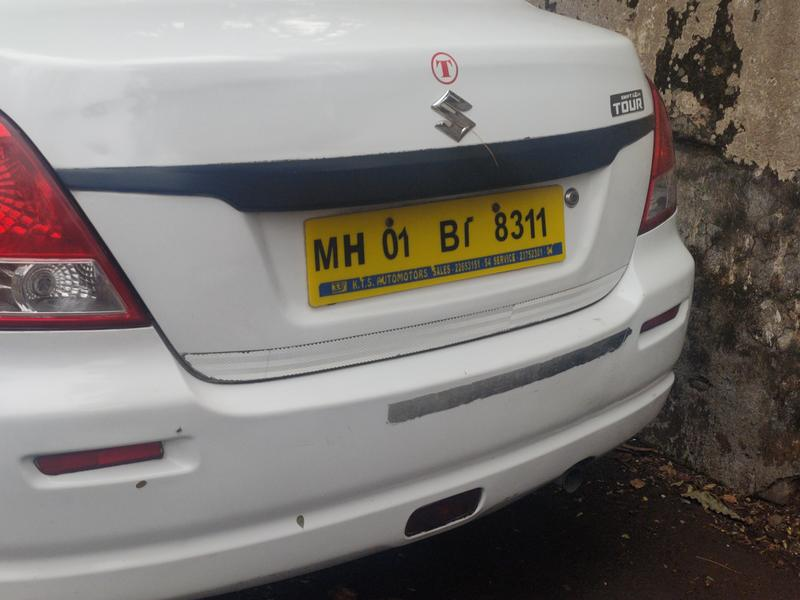license_plate: (296, 185, 588, 301)
